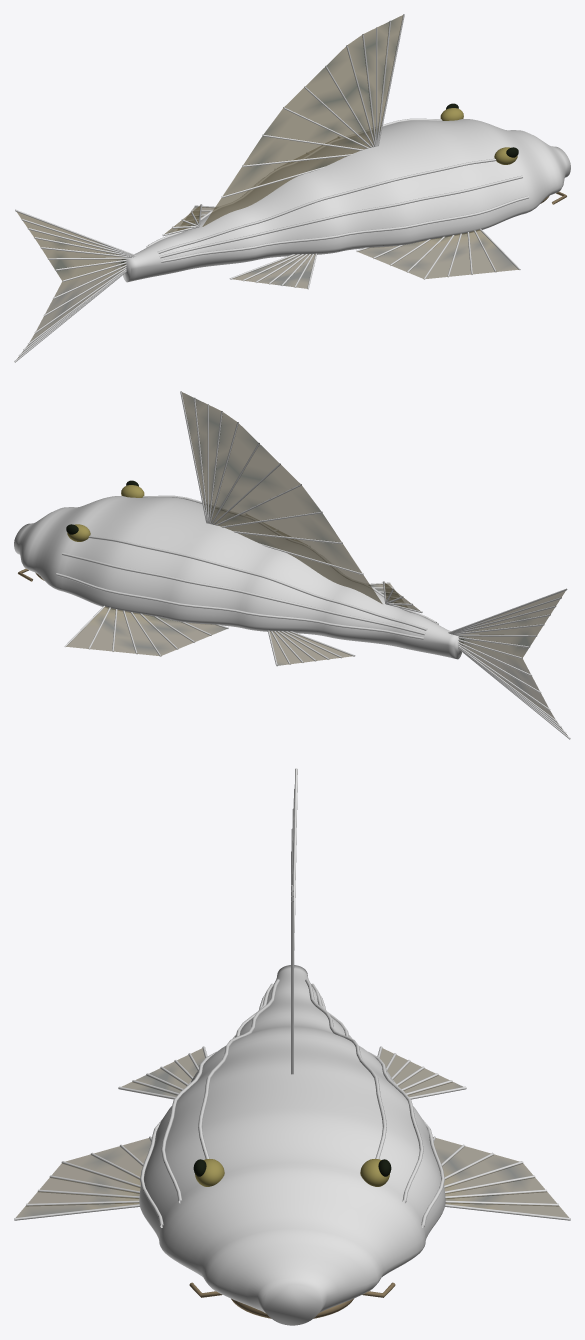
File: pleco.glb
The picture shows the model from 3 angles, top to bottom: view 1: azimuth 30°, elevation 25°; view 2: azimuth 150°, elevation 25°; view 3: azimuth 270°, elevation 25°; orthographic projection. The views are drawn at different scales.
Visible parts, largest first — view 1: Pleco armored body, Tall sail dorsal fin, Forked caudal fin, Pectoral -1, Pelvic -1, Armor ridge -1 0, Armor ridge -1 1, Armor ridge -1 2, Armor ridge 1 2; view 2: Pleco armored body, Tall sail dorsal fin, Pectoral 1, Forked caudal fin, Pelvic 1, Armor ridge 1 0, Armor ridge 1 1, Armor ridge 1 2, Armor ridge -1 2; view 3: Pleco armored body, Pectoral 1, Pectoral -1, Pelvic 1, Pelvic -1, Armor ridge 1 1, Armor ridge -1 1, Armor ridge 1 2, Armor ridge -1 2.
Boxes of the visible parts, <box> form: Pleco armored body: <box>121,119,570,282</box>; Tall sail dorsal fin: <box>202,15,402,226</box>; Forked caudal fin: <box>17,212,125,358</box>; Pectoral -1: <box>358,229,518,279</box>; Pelvic -1: <box>232,254,315,288</box>; Armor ridge -1 0: <box>161,196,528,262</box>; Armor ridge -1 1: <box>160,175,522,258</box>; Armor ridge -1 2: <box>158,158,496,253</box>; Armor ridge 1 2: <box>148,118,442,246</box>; Pleco armored body: <box>14,496,463,659</box>; Tall sail dorsal fin: <box>182,392,382,603</box>; Pectoral 1: <box>66,606,226,656</box>; Forked caudal fin: <box>459,591,567,735</box>; Pelvic 1: <box>269,631,352,665</box>; Armor ridge 1 0: <box>56,573,423,639</box>; Armor ridge 1 1: <box>62,552,424,635</box>; Armor ridge 1 2: <box>88,535,426,630</box>; Armor ridge -1 2: <box>142,495,436,623</box>; Pleco armored body: <box>139,965,445,1325</box>; Pectoral 1: <box>434,1138,568,1217</box>; Pectoral -1: <box>16,1138,150,1217</box>; Pelvic 1: <box>380,1048,462,1096</box>; Pelvic -1: <box>122,1048,204,1096</box>; Armor ridge 1 1: <box>311,983,423,1203</box>; Armor ridge -1 1: <box>161,983,273,1203</box>; Armor ridge 1 2: <box>305,979,386,1159</box>; Armor ridge -1 2: <box>198,979,279,1159</box>.
Bounding box in the file's own units: 2.4 × 1.06 × 1.38.
